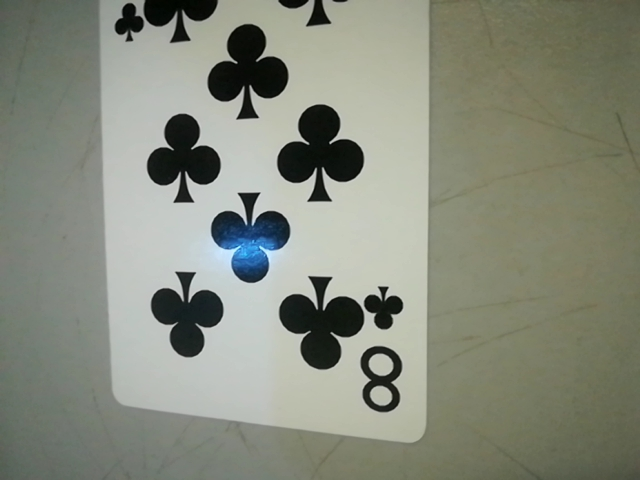mh 8: (351, 282, 419, 422)
